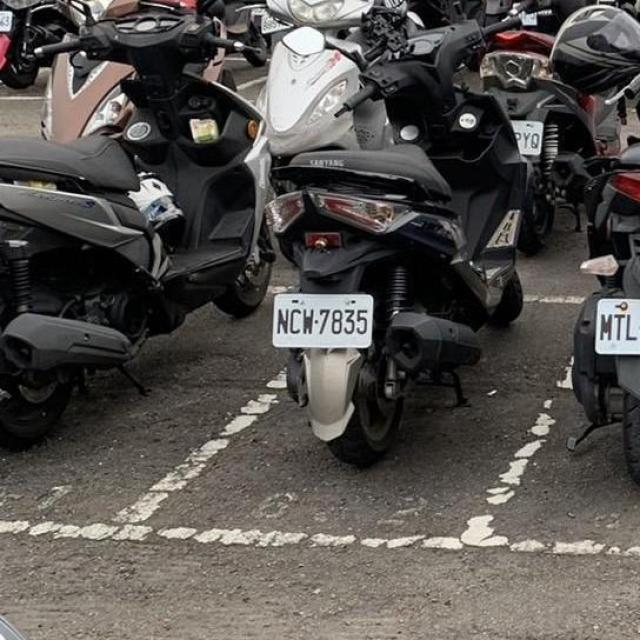W: (261, 279, 380, 359), (583, 289, 640, 362), (506, 119, 544, 155)
